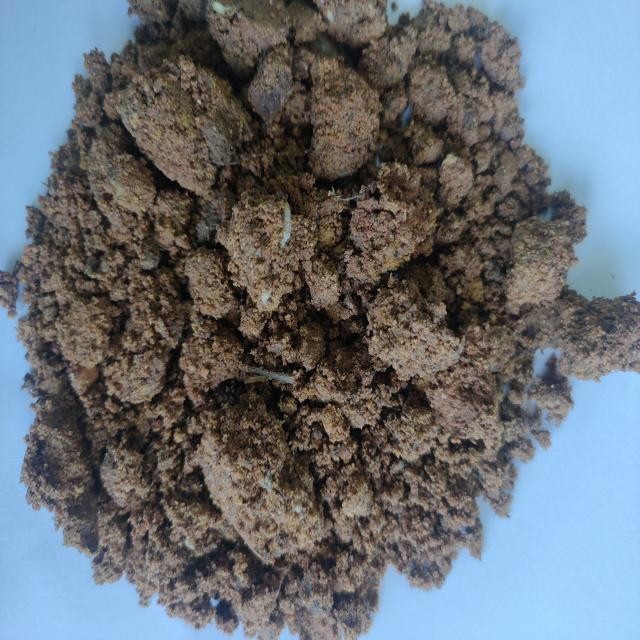soil: (88, 82, 506, 510)
